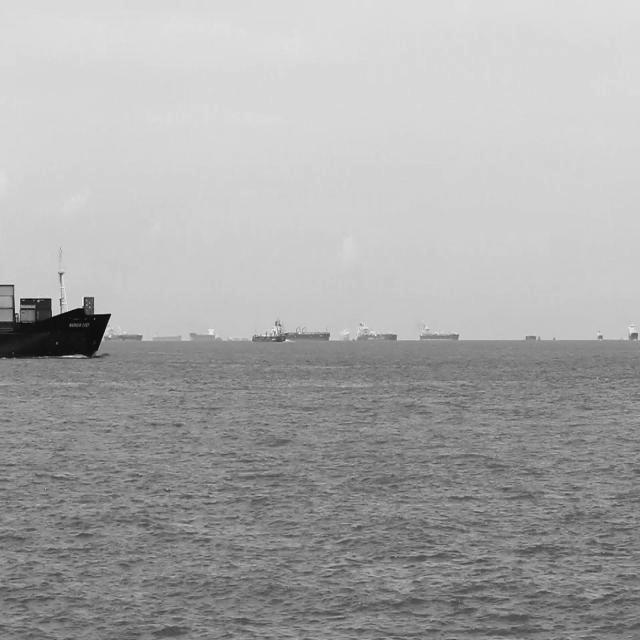ship: (0, 243, 116, 362), (356, 316, 398, 344), (100, 322, 144, 346), (415, 322, 462, 344), (284, 325, 332, 343), (187, 324, 223, 346), (250, 322, 286, 344), (622, 319, 640, 347), (148, 333, 184, 346), (522, 328, 542, 351), (336, 323, 353, 347), (226, 334, 252, 346), (593, 324, 607, 346)
